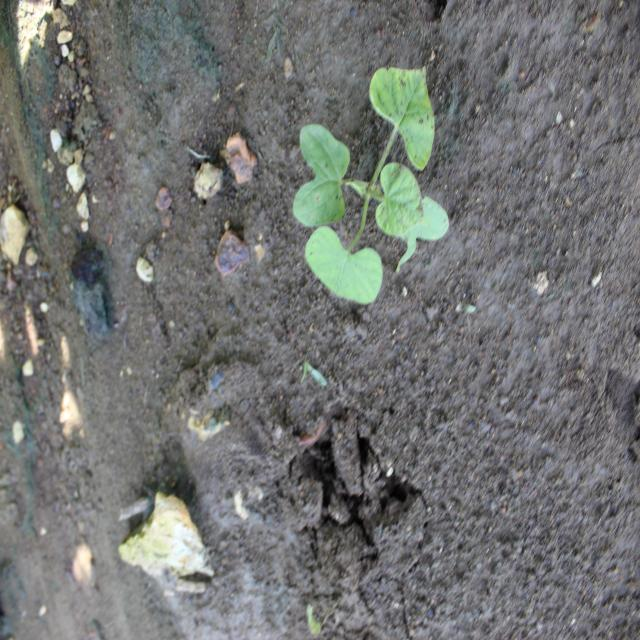MorningGlory: (291, 63, 452, 308)
